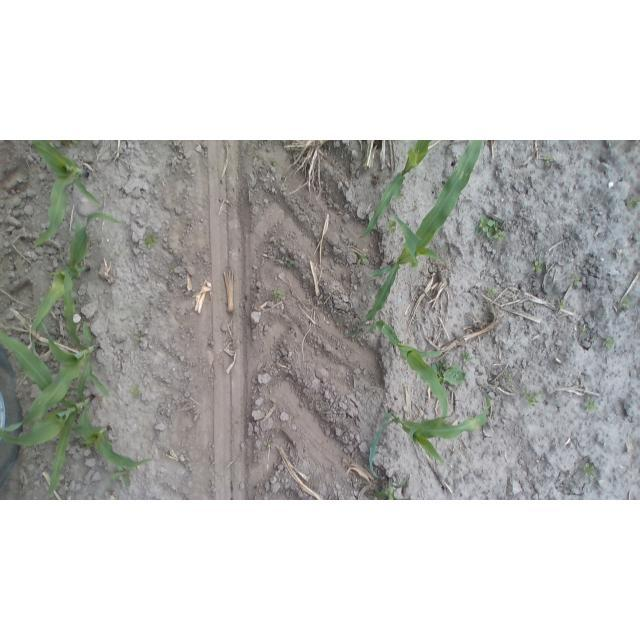Maize: (345, 140, 493, 338), (0, 319, 154, 499), (1, 312, 115, 433), (29, 208, 124, 344), (366, 391, 494, 477), (25, 141, 107, 248), (373, 318, 454, 425), (358, 141, 442, 240), (371, 474, 413, 500)
Weeds: (476, 213, 509, 244), (434, 358, 469, 387), (109, 466, 134, 486), (523, 388, 546, 408), (581, 396, 598, 413), (142, 232, 158, 250), (579, 460, 597, 476), (619, 294, 634, 310), (603, 335, 618, 351), (626, 195, 640, 211), (272, 287, 285, 303), (386, 218, 398, 234), (532, 259, 544, 274), (461, 350, 476, 362), (282, 254, 294, 269), (59, 141, 83, 148), (134, 330, 146, 344), (130, 386, 142, 399), (569, 276, 582, 288), (484, 286, 496, 298), (542, 155, 555, 165), (614, 251, 626, 261), (263, 439, 272, 452), (359, 253, 368, 265), (580, 326, 589, 337), (251, 151, 260, 162), (506, 373, 515, 383), (168, 265, 176, 276), (68, 141, 84, 146), (556, 299, 564, 308), (270, 158, 278, 167)
